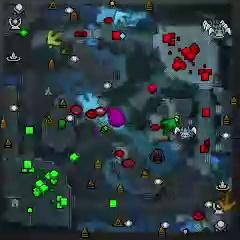p3: (107, 107, 125, 128)
x2: (47, 29, 63, 46)
x3: (113, 10, 131, 27)
x4: (161, 117, 178, 137)
x5: (217, 191, 235, 211)
